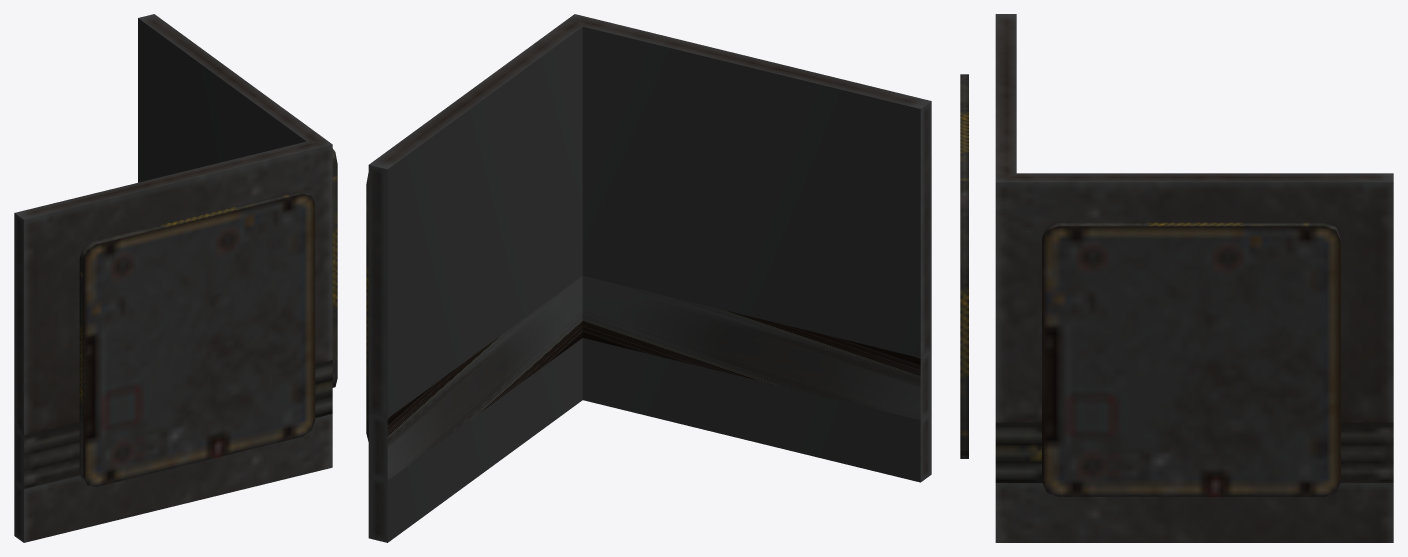
The model's file is Wall_top_corner_out.FBX.
3 renders of one model, left to right at view 1: azimuth 30°, elevation 25°; view 2: azimuth 150°, elevation 25°; view 3: azimuth 270°, elevation 25°, orthographic. The views are drawn at different scales.
Visible parts, largest first — view 1: Wall_top_corner_out; view 2: Wall_top_corner_out; view 3: Wall_top_corner_out.
Boxes of the visible parts, x1,y1,x2,y2 form: Wall_top_corner_out: (14, 14, 337, 542); Wall_top_corner_out: (366, 14, 931, 542); Wall_top_corner_out: (960, 14, 1393, 542).
Bounding box in the file's own units: 325 × 300 × 327.
